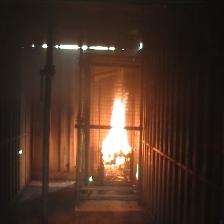fire: (103, 92, 132, 168)
